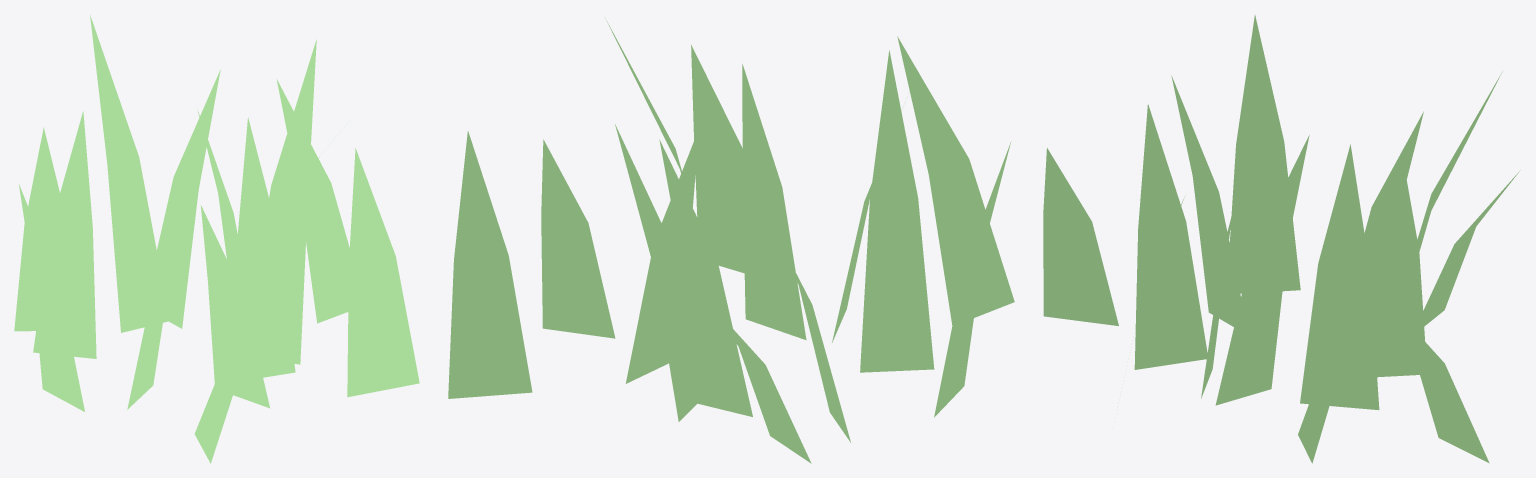
Rendered from grass_patch_cluster.glb.
3 views of the same model, side by side, from view 1: azimuth 30°, elevation 25°; view 2: azimuth 150°, elevation 25°; view 3: azimuth 270°, elevation 25° (orthographic). The views are drawn at different scales.
Visible parts, largest first — view 1: RootNode; view 2: RootNode; view 3: RootNode.
Boxes of the visible parts, x1,y1,x2,y2 form: RootNode: (14, 15, 419, 463); RootNode: (448, 20, 1014, 463); RootNode: (1043, 15, 1519, 463).
Bounding box in the file's own units: 0.4221 × 0.276 × 0.3947.
